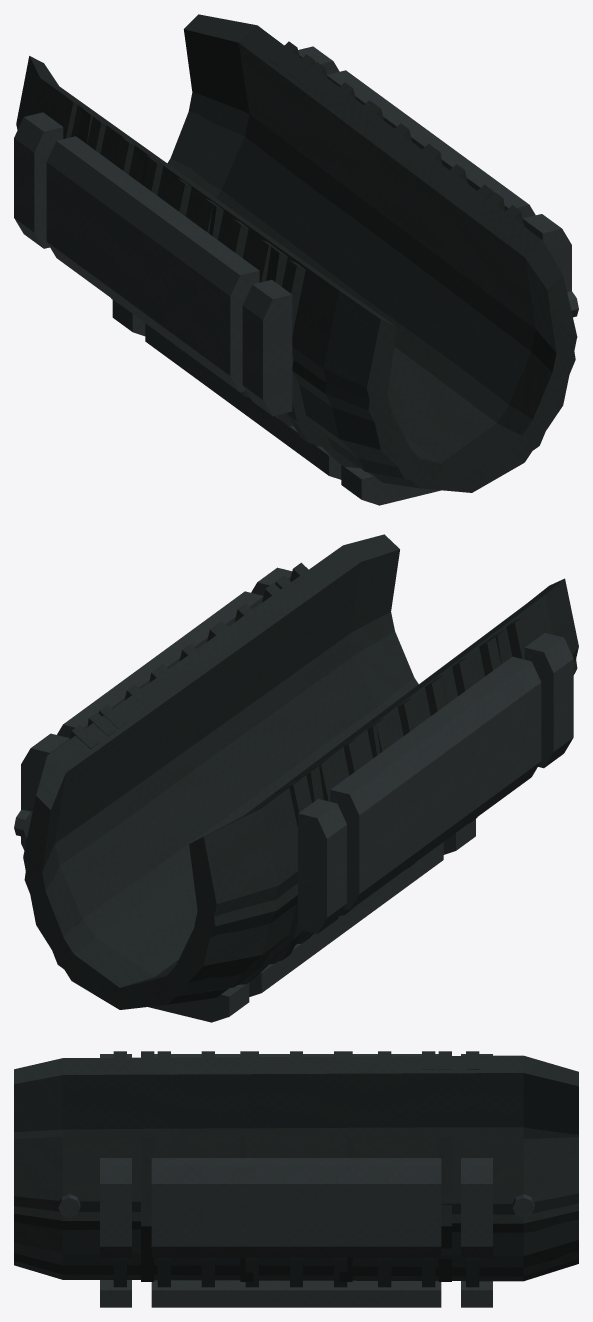
The model's file is 870_pump_rail.glb.
The picture shows the model from 3 angles, top to bottom: view 1: azimuth 30°, elevation 25°; view 2: azimuth 150°, elevation 25°; view 3: azimuth 270°, elevation 25°; orthographic projection. The views are drawn at different scales.
Visible parts, largest first — view 1: handguard__870_pump_rail_LOD1_RAID_Secondary_Original_polyme, handguard__870_pump_rail_LOD0_RAID_Secondary_Original_polyme, handguard__870_pump_rail_LOD0_RAID_Secondary_Original_steel, handguard__870_pump_rail_LOD1_RAID_Secondary_Original_steel; view 2: handguard__870_pump_rail_LOD1_RAID_Secondary_Original_polyme, handguard__870_pump_rail_LOD0_RAID_Secondary_Original_polyme, handguard__870_pump_rail_LOD0_RAID_Secondary_Original_steel, handguard__870_pump_rail_LOD1_RAID_Secondary_Original_steel; view 3: handguard__870_pump_rail_LOD0_RAID_Secondary_Original_polyme, handguard__870_pump_rail_LOD1_RAID_Secondary_Original_polyme, handguard__870_pump_rail_LOD0_RAID_Secondary_Original_steel, handguard__870_pump_rail_LOD1_RAID_Secondary_Original_steel.
Part boxes in pixels (<box>): handguard__870_pump_rail_LOD1_RAID_Secondary_Original_polyme: <box>78,29,575,492</box>; handguard__870_pump_rail_LOD0_RAID_Secondary_Original_polyme: <box>16,14,577,492</box>; handguard__870_pump_rail_LOD0_RAID_Secondary_Original_steel: <box>14,46,578,505</box>; handguard__870_pump_rail_LOD1_RAID_Secondary_Original_steel: <box>58,78,518,467</box>; handguard__870_pump_rail_LOD1_RAID_Secondary_Original_polyme: <box>24,549,577,1009</box>; handguard__870_pump_rail_LOD0_RAID_Secondary_Original_polyme: <box>23,534,578,1009</box>; handguard__870_pump_rail_LOD0_RAID_Secondary_Original_steel: <box>14,567,573,1022</box>; handguard__870_pump_rail_LOD1_RAID_Secondary_Original_steel: <box>74,599,528,978</box>; handguard__870_pump_rail_LOD0_RAID_Secondary_Original_polyme: <box>14,1051,578,1287</box>; handguard__870_pump_rail_LOD1_RAID_Secondary_Original_polyme: <box>14,1051,578,1281</box>; handguard__870_pump_rail_LOD0_RAID_Secondary_Original_steel: <box>58,1054,534,1307</box>; handguard__870_pump_rail_LOD1_RAID_Secondary_Original_steel: <box>168,1054,424,1307</box>.
Bounding box in the file's own units: 0.127 × 0.0989 × 0.255.
Materials: 2 (2 with a texture image).
